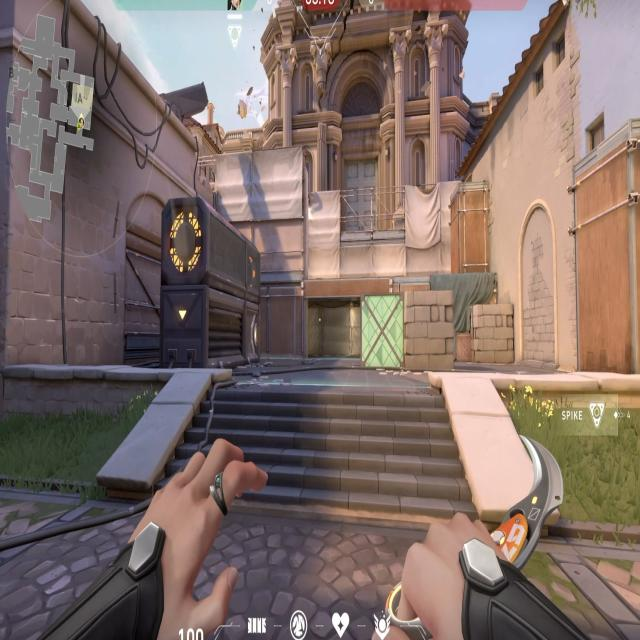A_Heaven_Box: (449, 185, 488, 276)
A_Heaven_Wall: (215, 154, 305, 279)
A_Hell: (291, 282, 404, 358)
A_Site_Box: (362, 294, 452, 369)
